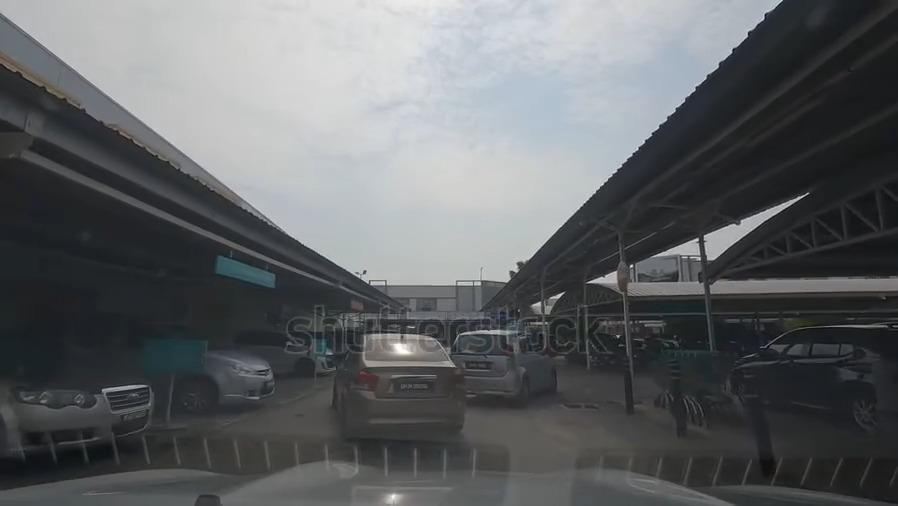car: (0, 332, 156, 453), (125, 321, 276, 415), (746, 327, 898, 420), (335, 334, 459, 431), (454, 330, 554, 399), (233, 321, 336, 378)
manhole: (559, 399, 599, 411)
wheel: (172, 371, 218, 415), (847, 388, 875, 435), (293, 359, 316, 379)
